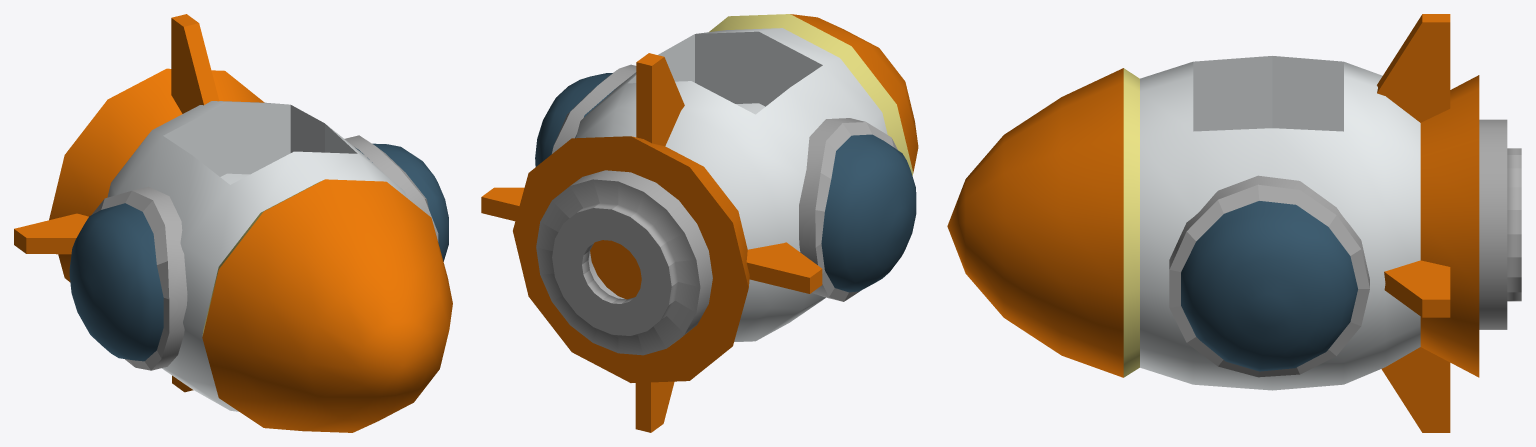
3 renders of one model, left to right at view 1: azimuth 30°, elevation 25°; view 2: azimuth 150°, elevation 25°; view 3: azimuth 270°, elevation 25°, orthographic. The views are drawn at different scales.
Visible parts, largest first — view 1: pSphere9; view 2: pSphere9; view 3: pSphere9.
Part boxes in pixels (<box>): pSphere9: <box>14,14,452,432</box>; pSphere9: <box>481,14,918,432</box>; pSphere9: <box>947,14,1521,432</box>.
Bounding box in the file's own units: 5.05 × 5.03 × 6.38.
